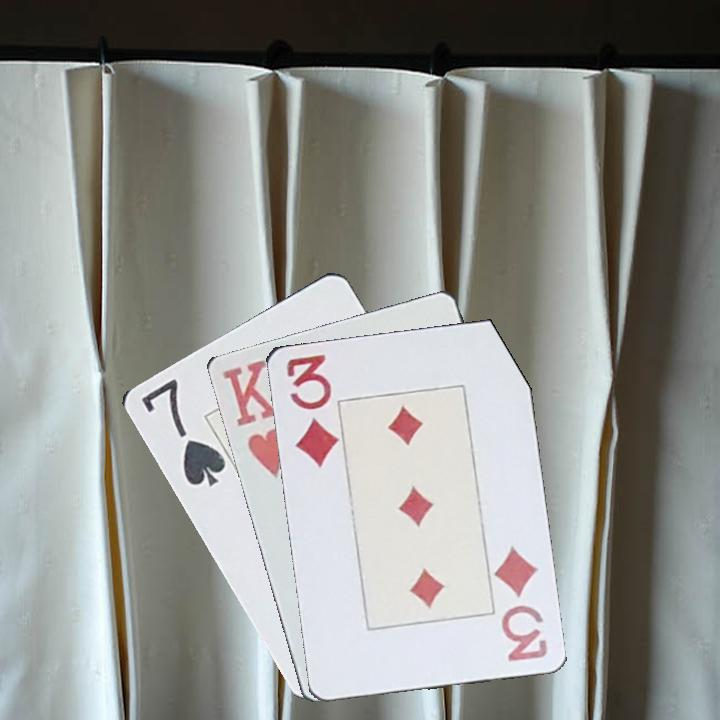3d: (490, 542, 550, 664), (282, 350, 340, 470)
7s: (137, 374, 229, 490)
Kh: (218, 355, 287, 482)
